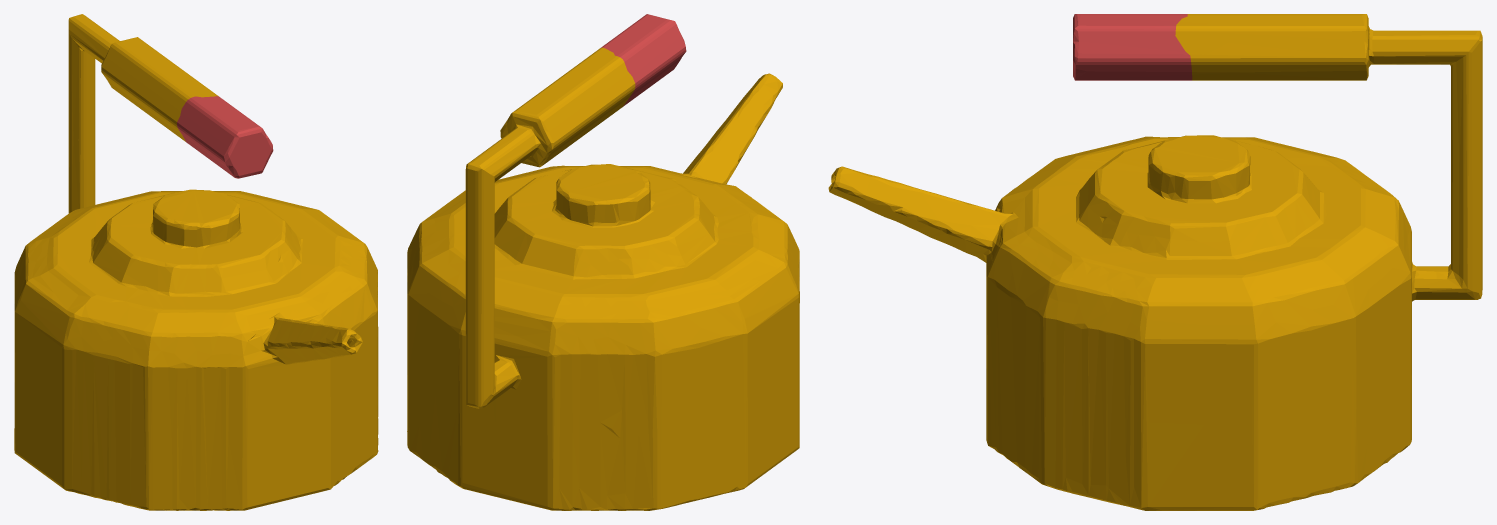
The model's file is fractured_78_2pcs.glb.
3 views of the same model, side by side, from view 1: azimuth 30°, elevation 25°; view 2: azimuth 150°, elevation 25°; view 3: azimuth 270°, elevation 25° (orthographic). The views are drawn at different scales.
Parts seen in each view (by area): view 1: piece_0.obj, piece_1.obj; view 2: piece_0.obj, piece_1.obj; view 3: piece_0.obj, piece_1.obj.
Boxes of the visible parts, x1=… form: piece_0.obj: x1=14, y1=14, x2=378, y2=510; piece_1.obj: x1=177, y1=96, x2=273, y2=178; piece_0.obj: x1=407, y1=47, x2=799, y2=510; piece_1.obj: x1=601, y1=14, x2=686, y2=106; piece_0.obj: x1=828, y1=14, x2=1482, y2=510; piece_1.obj: x1=1073, y1=14, x2=1192, y2=80.
Size of the model in its own units: 0.6508 by 0.6799 by 1.
